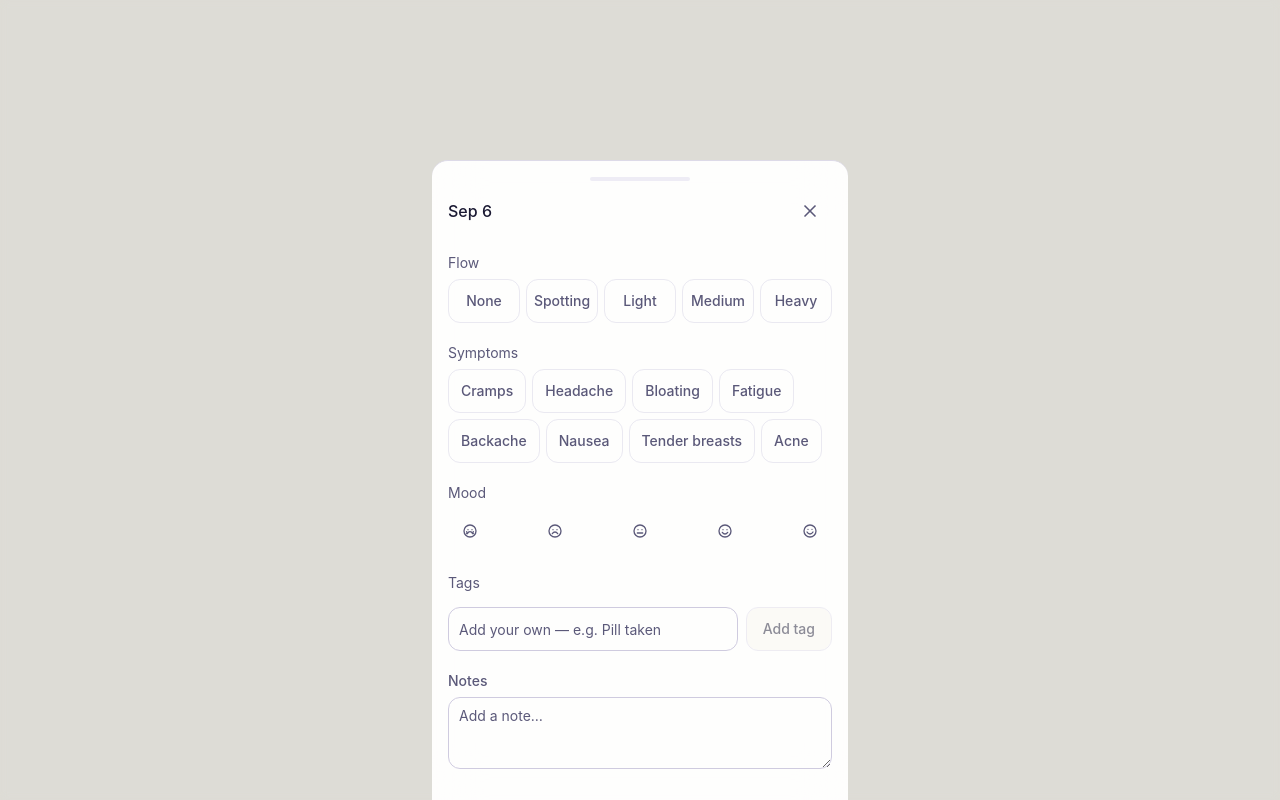
Test case: LogEntryScreen › a failed save shows an error and changes nothing in state
Click the radio button labelled "Medium".
click(718, 301)  # box [682,279,754,323]
(page scrolled)
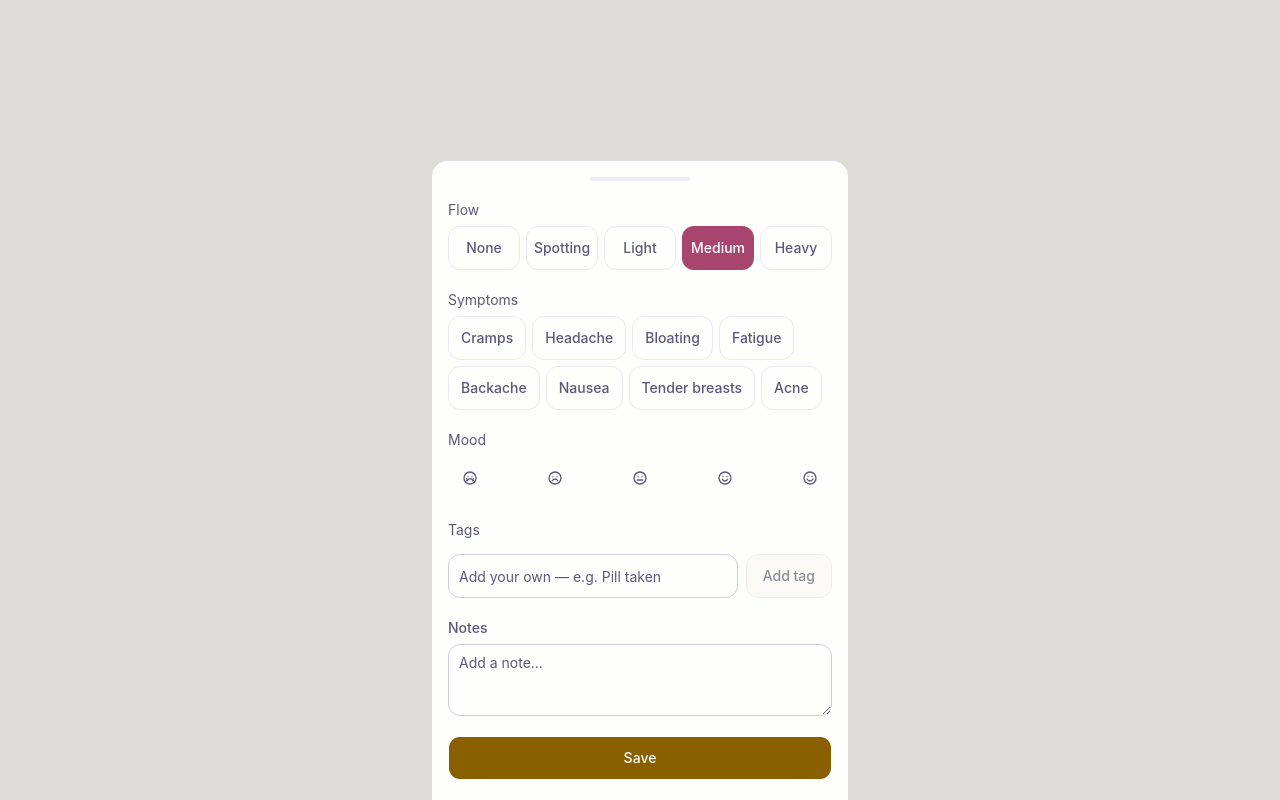
Click the button "Save".
click(640, 758)  # box [448,736,832,780]
(page scrolled)
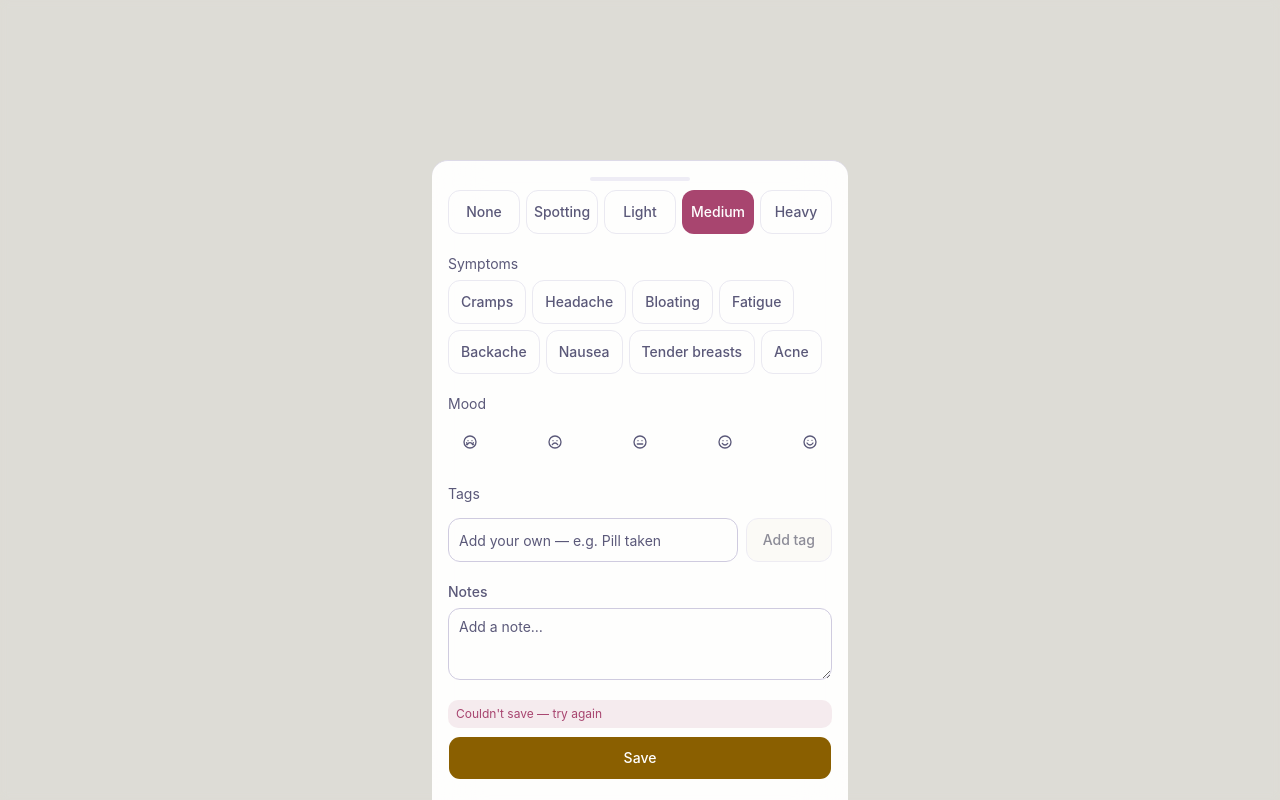
Expected: the text "Couldn't save — try again" is shown, [456,706,602,722]
